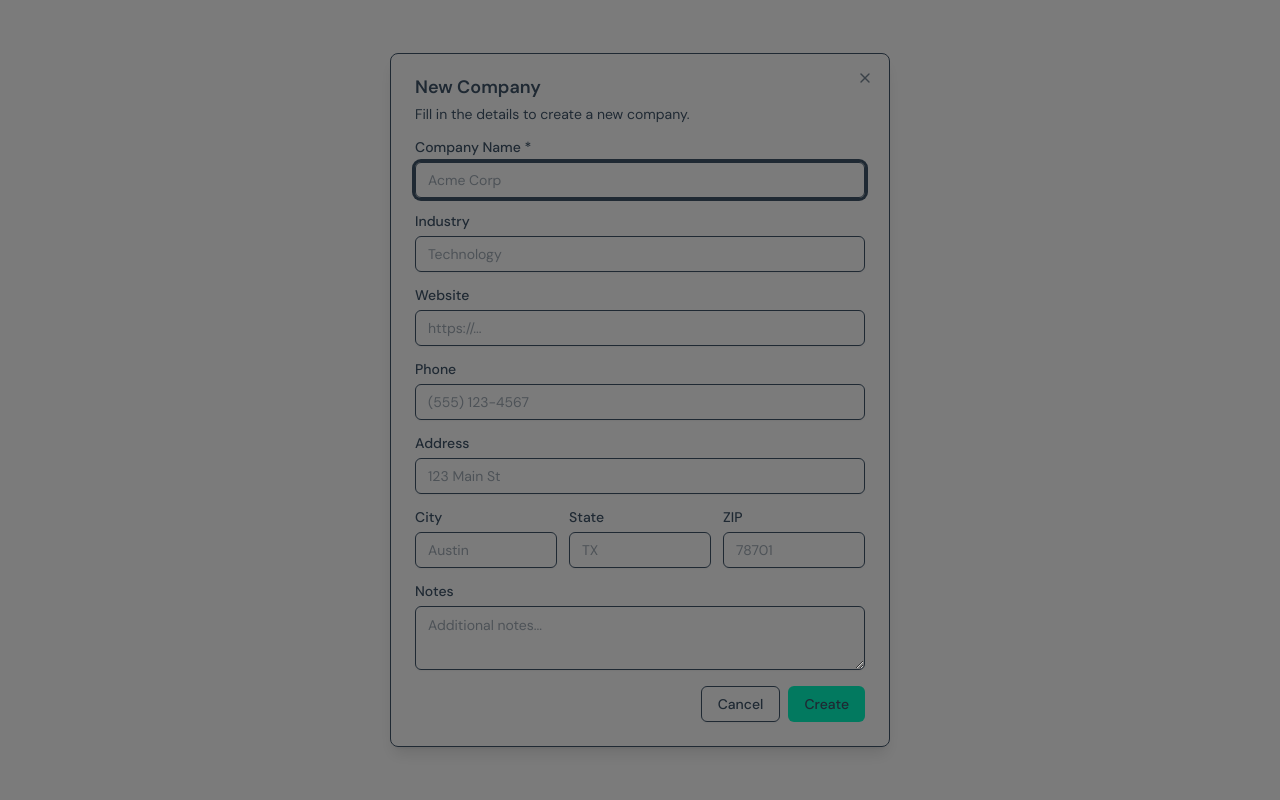
Test: CompanyFormDialog › disables the submit button and shows a spinner while saving
Expected: the heading "New Company" is shown, [415,75,541,99]
Type "Spinning" into the field labelled "Company Name *". click: (640, 180)
box: [415,162,865,198]
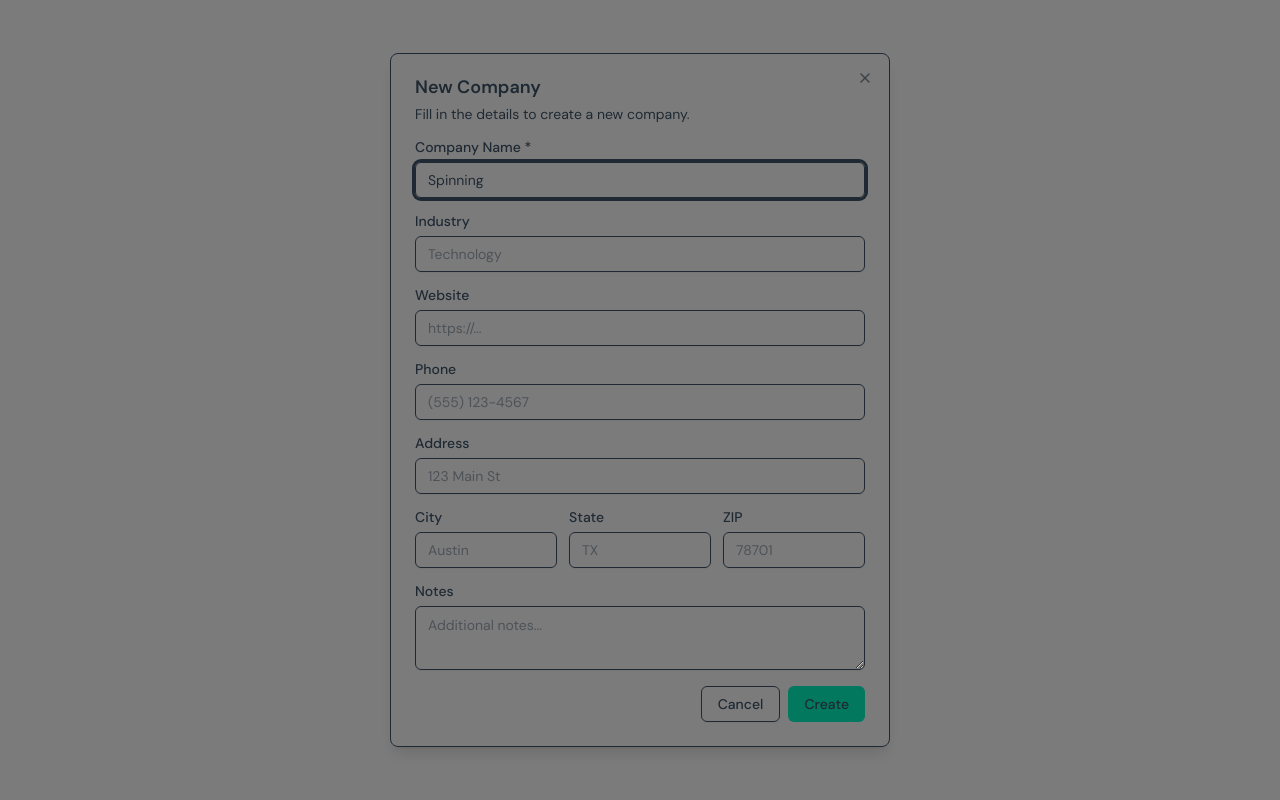
Click the button "Create". click: (827, 704)
box: [788,686,865,722]
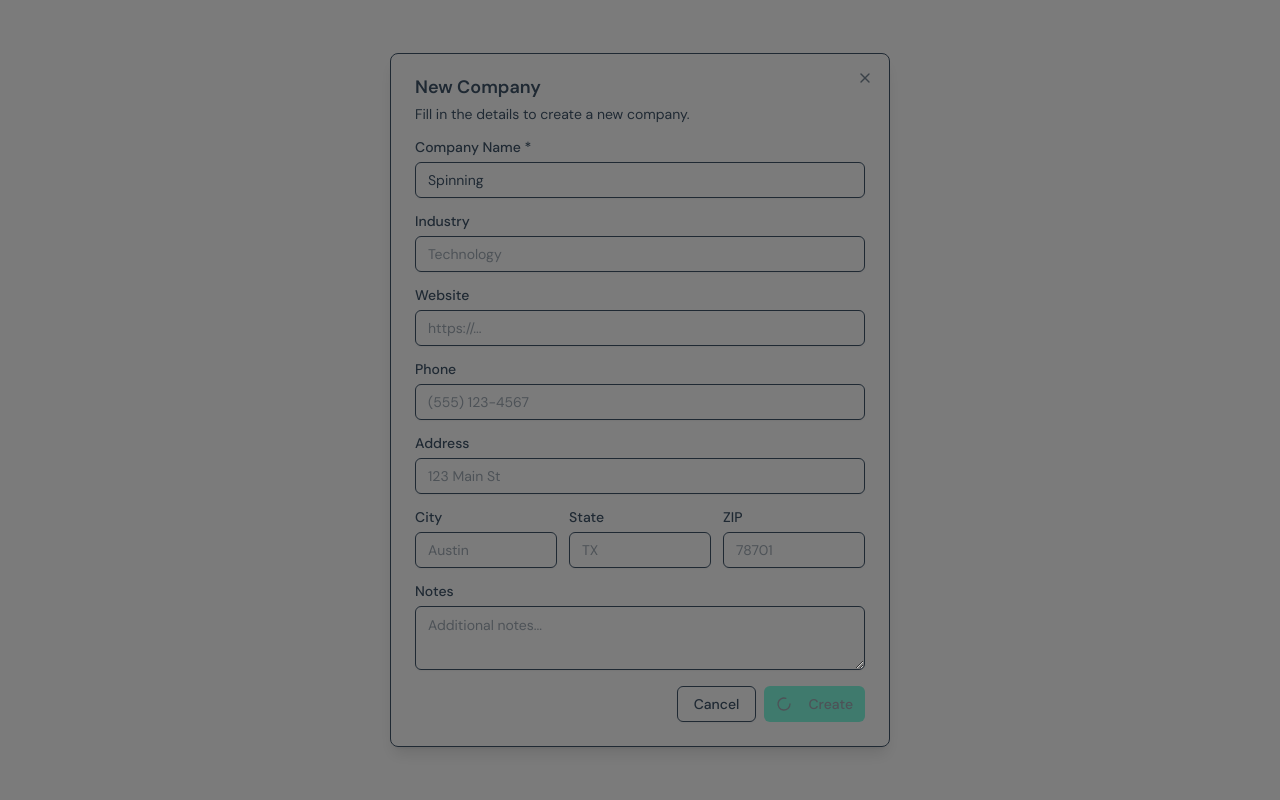
Expected: the button "Create" is disabled, [764,686,865,722]
Expected: the icon with class "animate-spin" is shown, [776,696,792,712]
